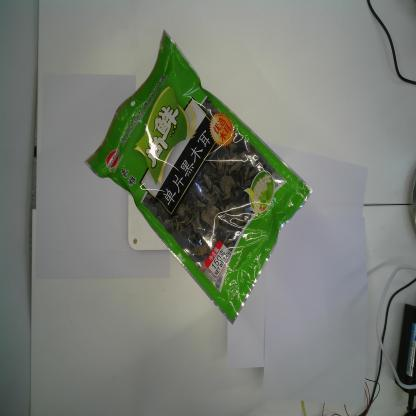Dried Food: (84, 29, 314, 324)
